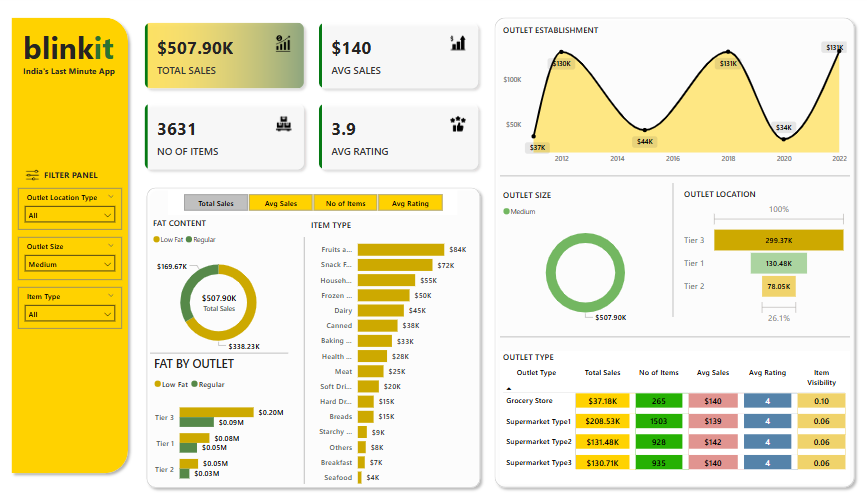

The dashboard page shown, as its layout file describes it:
{"tool":"powerbi","page":{"name":"Page 1","canvas":[1400,800],"ordinal":0},"visuals":[{"type":"shape","box":[16.1,27.3,205,750],"z":0},{"type":"textbox","box":[38.6,46.6,167.1,77.1],"z":1000},{"type":"textbox","box":[38.6,107.6,167.1,32.1],"z":2000},{"type":"cardVisual","fields":{"Data":["BlinkIT Grocery Data.Total Sales","BlinkIT Grocery Data.Avg Sales","BlinkIT Grocery Data.No of Items","BlinkIT Grocery Data.Avg Rating"]},"box":[221.5,27.7,570.8,270.8],"z":3000},{"type":"shape","box":[232.3,300,553.8,500],"z":4000},{"type":"donutChart","title":"FAT CONTENT","fields":{"Y":["BlinkIT Grocery Data.Total Sales"],"Category":["BlinkIT Grocery Data.Item Fat Content"]},"box":[247.7,356.9,220,230.8],"z":5000},{"type":"slicer","fields":{"Values":["Metrics.Metrics"]},"box":[276.9,313.8,464.6,40],"z":6000},{"type":"cardVisual","fields":{"Data":["BlinkIT Grocery Data.Total Sales"]},"box":[307.7,461.5,100,53.8],"z":7000},{"type":"clusteredBarChart","title":"FAT BY OUTLET","fields":{"Y":["BlinkIT Grocery Data.Total Sales"],"Category":["BlinkIT Grocery Data.Outlet Location Type"],"Series":["BlinkIT Grocery Data.Item Fat Content"]},"box":[249,579.9,220.1,220.1],"z":8000},{"type":"shape","box":[246.7,563.3,221.7,23.3],"z":9000},{"type":"shape","box":[480,388.3,30,396.7],"z":10000},{"type":"barChart","title":"ITEM TYPE","fields":{"Y":["BlinkIT Grocery Data.Total Sales"],"Category":["BlinkIT Grocery Data.Item Type"]},"box":[501.7,360,270,440],"z":11000},{"type":"shape","box":[792,27.3,596,772.7],"z":12000},{"type":"lineChart","title":"OUTLET ESTABLISHMENT","fields":{"Y":["BlinkIT Grocery Data.Total Sales"],"Category":["BlinkIT Grocery Data.Outlet Establishment Year"]},"box":[809.6,46.6,562.2,234.5],"z":13000},{"type":"shape","box":[809.6,279.5,562.2,22.5],"z":14000},{"type":"donutChart","title":"OUTLET SIZE","fields":{"Y":["BlinkIT Grocery Data.Total Sales"],"Category":["BlinkIT Grocery Data.Outlet Size"]},"box":[809.6,311.6,274.7,224.9],"z":15000},{"type":"shape","box":[1074.7,302,25.7,215.3],"z":16000},{"type":"funnel","title":"OUTLET LOCATION","fields":{"Y":["Sum(BlinkIT Grocery Data.Sales)"],"Category":["BlinkIT Grocery Data.Outlet Location Type"]},"box":[1100.4,310,271.5,224.9],"z":17000},{"type":"shape","box":[809.6,538.2,562.2,22.5],"z":18000},{"type":"pivotTable","title":"OUTLET TYPE","fields":{"Rows":["BlinkIT Grocery Data.Outlet Type"],"Values":["BlinkIT Grocery Data.Total Sales","BlinkIT Grocery Data.No of Items","BlinkIT Grocery Data.Avg Sales","BlinkIT Grocery Data.Avg Rating","Avg(BlinkIT Grocery Data.Item Visibility)"]},"box":[809.6,571.9,562.2,213.7],"z":19000},{"type":"slicer","fields":{"Values":["BlinkIT Grocery Data.Outlet Location Type"]},"box":[35.3,310,167.1,67.5],"z":20000},{"type":"slicer","fields":{"Values":["BlinkIT Grocery Data.Outlet Size"]},"box":[35.3,388.8,167.1,69.1],"z":21000},{"type":"slicer","fields":{"Values":["BlinkIT Grocery Data.Item Type"]},"box":[35.3,469.1,167.1,67.5],"z":22000},{"type":"textbox","box":[72.3,274.7,109.2,30.5],"z":23000},{"type":"image","box":[38.6,269.9,40.2,38.6],"z":24000}]}

Visuals, with their boxes in screenshot pixels (x1, y1, x2, y2), scaled from the page's 1400x800 canvas onto the 867x493 screenshot:
shape: <bbox>10, 17, 137, 479</bbox>
textbox: <bbox>24, 29, 127, 76</bbox>
textbox: <bbox>24, 66, 127, 86</bbox>
cardVisual - BlinkIT Grocery Data.Total Sales x BlinkIT Grocery Data.Avg Sales: <bbox>137, 17, 491, 184</bbox>
shape: <bbox>144, 185, 487, 492</bbox>
"FAT CONTENT" donutChart: <bbox>153, 220, 290, 362</bbox>
slicer - Metrics.Metrics: <bbox>171, 193, 459, 218</bbox>
cardVisual - BlinkIT Grocery Data.Total Sales: <bbox>191, 284, 252, 318</bbox>
"FAT BY OUTLET" clusteredBarChart: <bbox>154, 357, 291, 492</bbox>
shape: <bbox>153, 347, 290, 361</bbox>
shape: <bbox>297, 239, 316, 484</bbox>
"ITEM TYPE" barChart: <bbox>311, 222, 478, 492</bbox>
shape: <bbox>490, 17, 860, 492</bbox>
"OUTLET ESTABLISHMENT" lineChart: <bbox>501, 29, 850, 173</bbox>
shape: <bbox>501, 172, 850, 186</bbox>
"OUTLET SIZE" donutChart: <bbox>501, 192, 671, 331</bbox>
shape: <bbox>666, 186, 681, 319</bbox>
"OUTLET LOCATION" funnel: <bbox>681, 191, 850, 330</bbox>
shape: <bbox>501, 332, 850, 346</bbox>
"OUTLET TYPE" pivotTable: <bbox>501, 352, 850, 484</bbox>
slicer - BlinkIT Grocery Data.Outlet Location Type: <bbox>22, 191, 125, 233</bbox>
slicer - BlinkIT Grocery Data.Outlet Size: <bbox>22, 240, 125, 282</bbox>
slicer - BlinkIT Grocery Data.Item Type: <bbox>22, 289, 125, 331</bbox>
textbox: <bbox>45, 169, 112, 188</bbox>
image: <bbox>24, 166, 49, 190</bbox>
